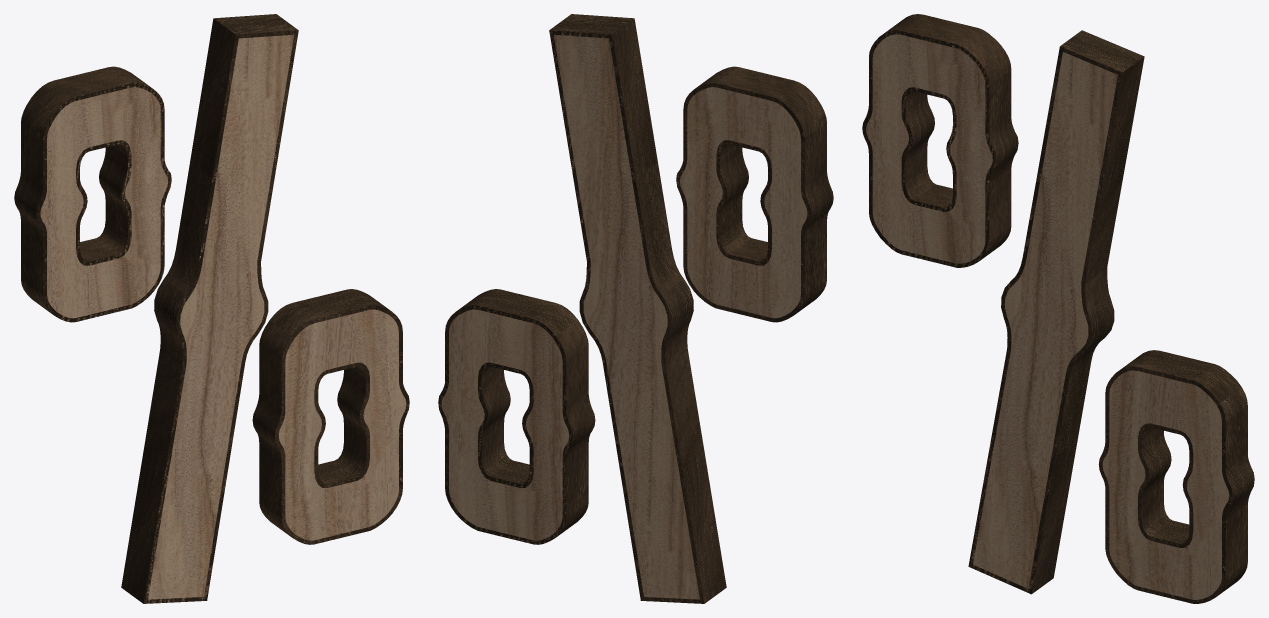
File: Interest.FBX
3 views of the same model, side by side, from view 1: azimuth 30°, elevation 25°; view 2: azimuth 150°, elevation 25°; view 3: azimuth 330°, elevation 25° (orthographic).
Visible parts, largest first — view 1: Interest, Interest_outline; view 2: Interest, Interest_outline; view 3: Interest, Interest_outline.
Part boxes in pixels (box(x1,y1,x2,y2)): Interest: box(40, 34, 406, 599); Interest_outline: box(14, 14, 409, 603); Interest: box(441, 34, 807, 599); Interest_outline: box(438, 14, 833, 603); Interest: box(866, 34, 1229, 599); Interest_outline: box(862, 14, 1254, 603).
Bounding box in the file's own units: 96.58 × 138 × 10.
Materials: 2 (2 with a texture image).
